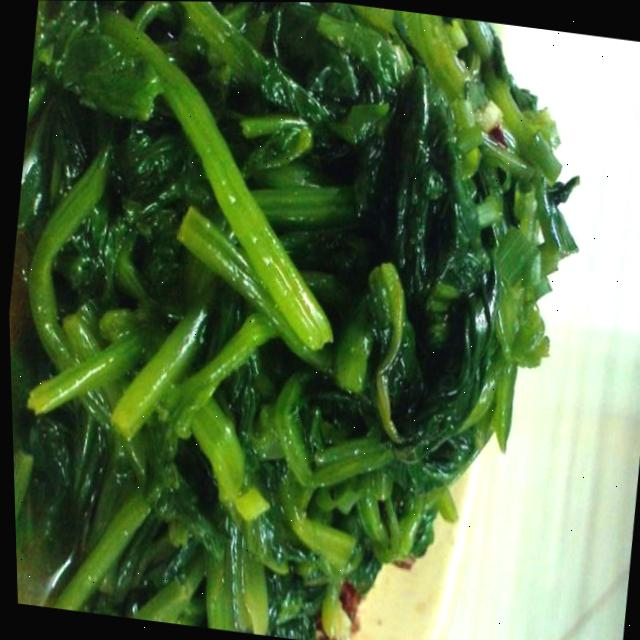蔬菜料理: (0, 0, 623, 640)
